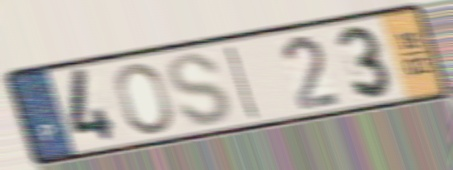2: (278, 33, 345, 114)
3: (334, 22, 395, 103)
4: (66, 66, 124, 149)
I: (223, 42, 262, 123)
O: (113, 60, 176, 137)
S: (164, 51, 233, 129)
